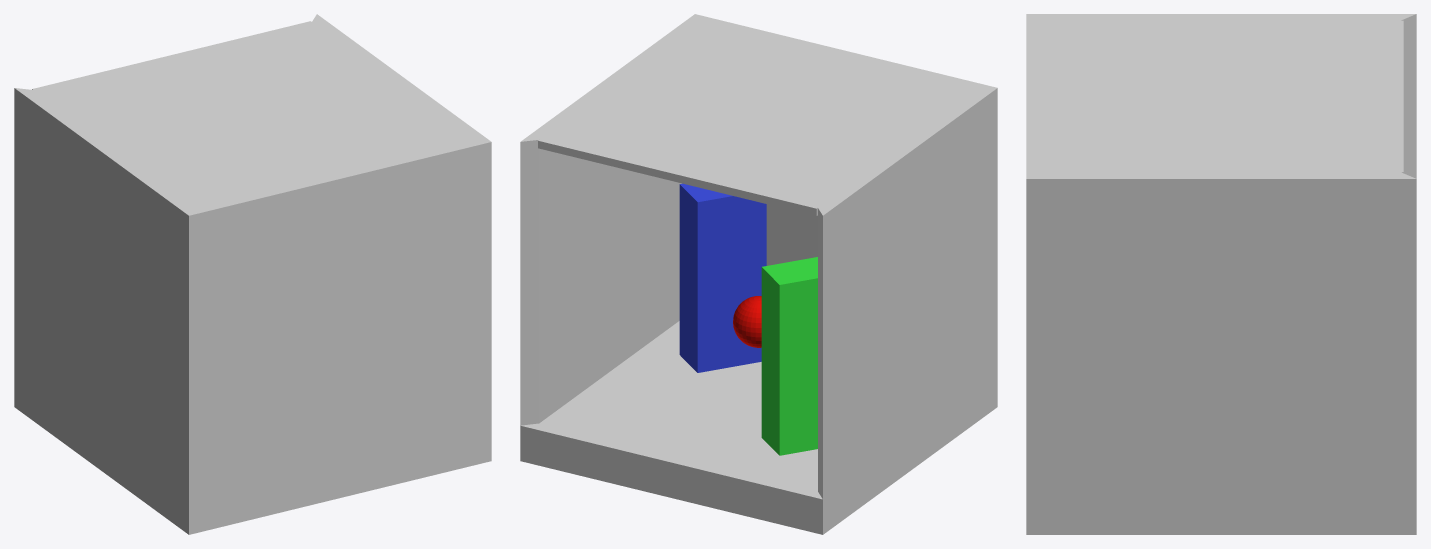
Rendered from boxblend.glb.
The picture shows the model from 3 angles, left to right: view 1: azimuth 30°, elevation 25°; view 2: azimuth 150°, elevation 25°; view 3: azimuth 270°, elevation 25°; orthographic projection. The views are drawn at different scales.
Parts seen in each view (by area): view 1: 立方体; view 2: 立方体, 立方体.001, 立方体.002, 球体; view 3: 立方体.
Boxes of the visible parts, x1,y1,x2,y2 form: 立方体: (14, 14, 491, 534); 立方体: (520, 14, 997, 534); 立方体.001: (679, 183, 766, 372); 立方体.002: (761, 257, 817, 455); 球体: (733, 296, 761, 347); 立方体: (1026, 14, 1416, 534).
Bounding box in the file's own units: 2 × 2.01 × 2.
